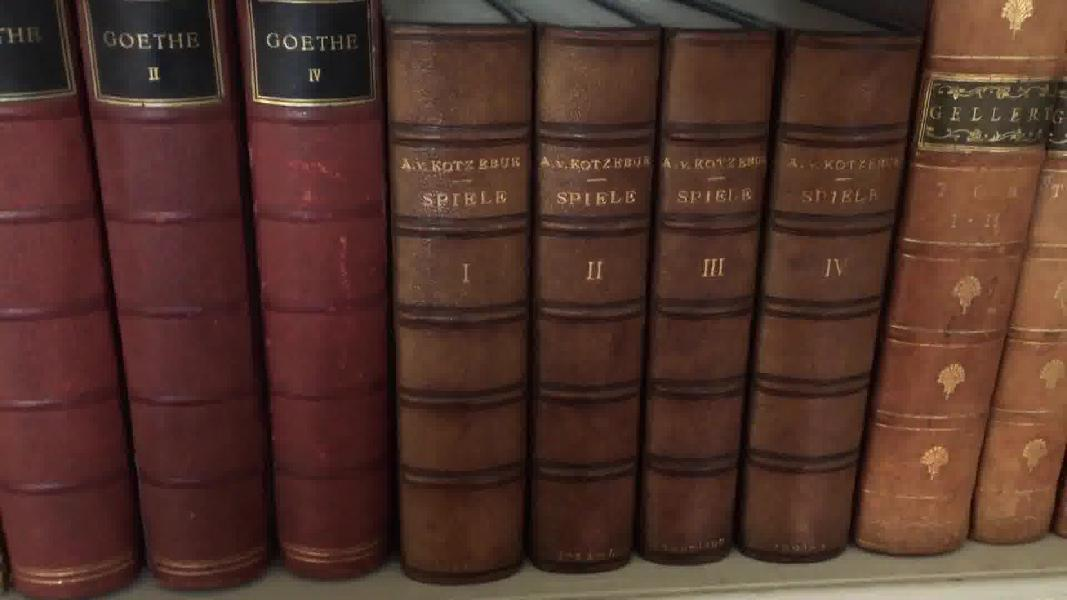Aa6-11_13: (5, 4, 406, 589)
Aa6-14_17: (385, 16, 916, 600)
